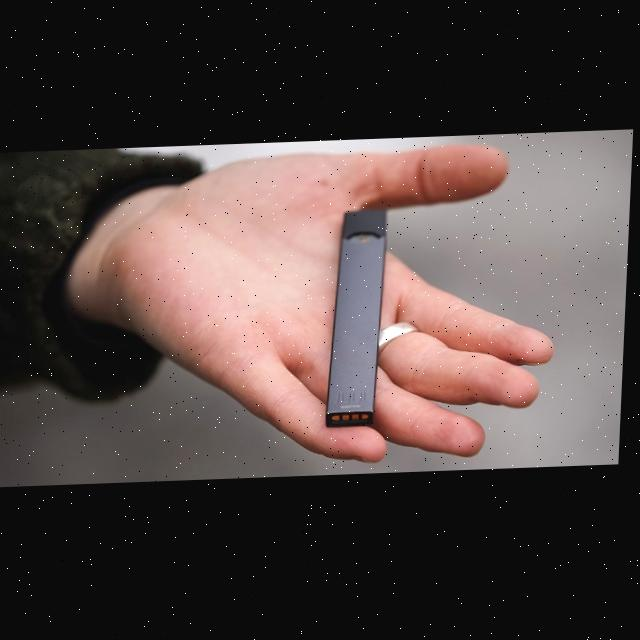vape: (329, 211, 390, 431)
